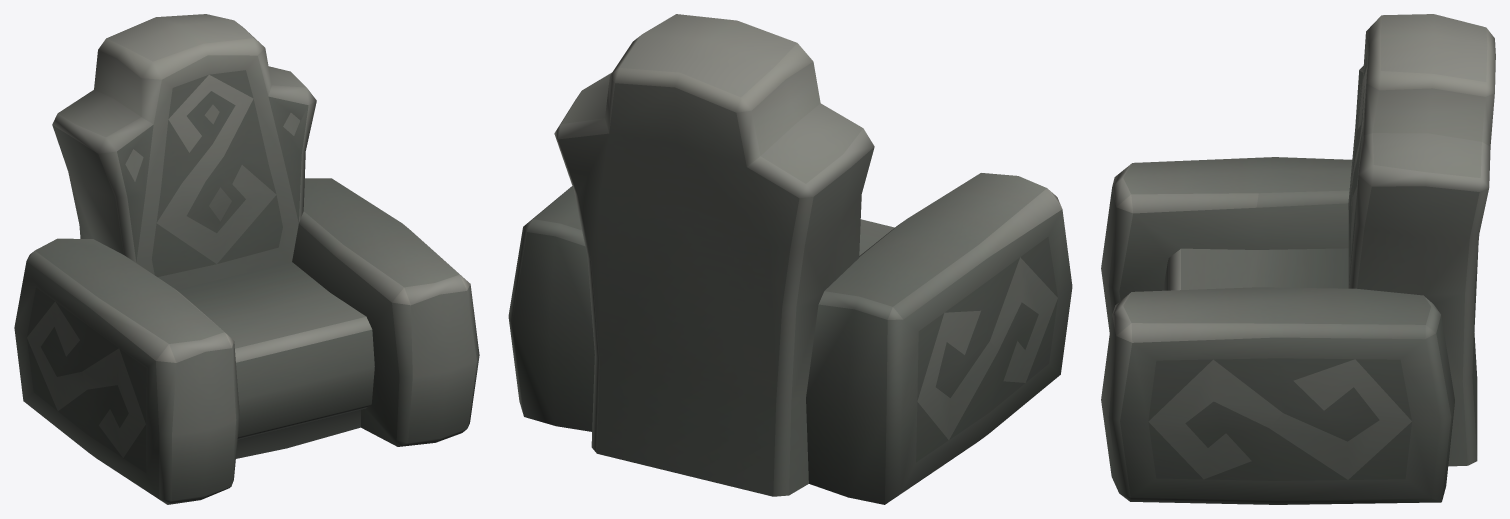
The model's file is orc_throne.fbx.
3 renders of one model, left to right at view 1: azimuth 30°, elevation 25°; view 2: azimuth 150°, elevation 25°; view 3: azimuth 270°, elevation 25°, orthographic. The views are drawn at different scales.
Visible parts, largest first — view 1: orc_throne; view 2: orc_throne; view 3: orc_throne.
Boxes of the visible parts, bbox=[...] form: orc_throne: bbox=[14, 14, 479, 504]; orc_throne: bbox=[508, 14, 1072, 504]; orc_throne: bbox=[1101, 14, 1495, 504].
Bounding box in the file's own units: 212 × 211 × 196.
